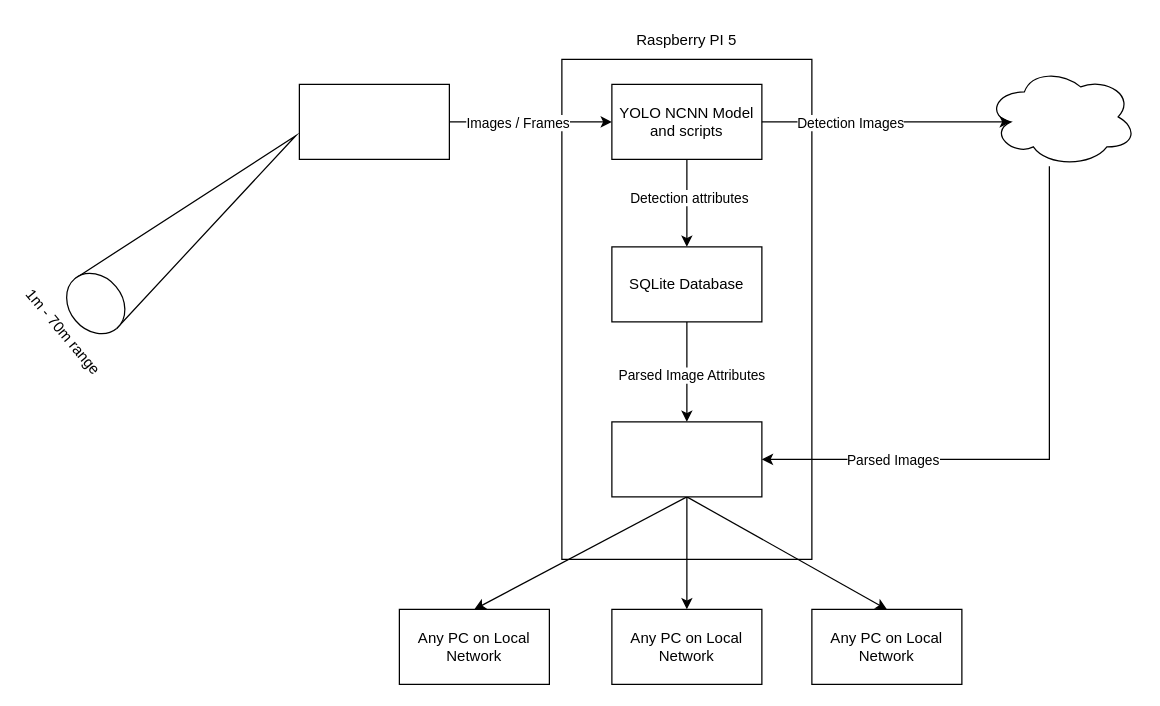
Image size: 1160x706. Some labels were removed from this diagram. The centre of each missing label's shape, as x and y in pixels:
"Google Cloud Storage" goes at pixel 1061 116.
"Raspberry Pi HQ Camera" goes at pixel 373 121.
"Streamlit Web Dashboard" goes at pixel 686 459.
